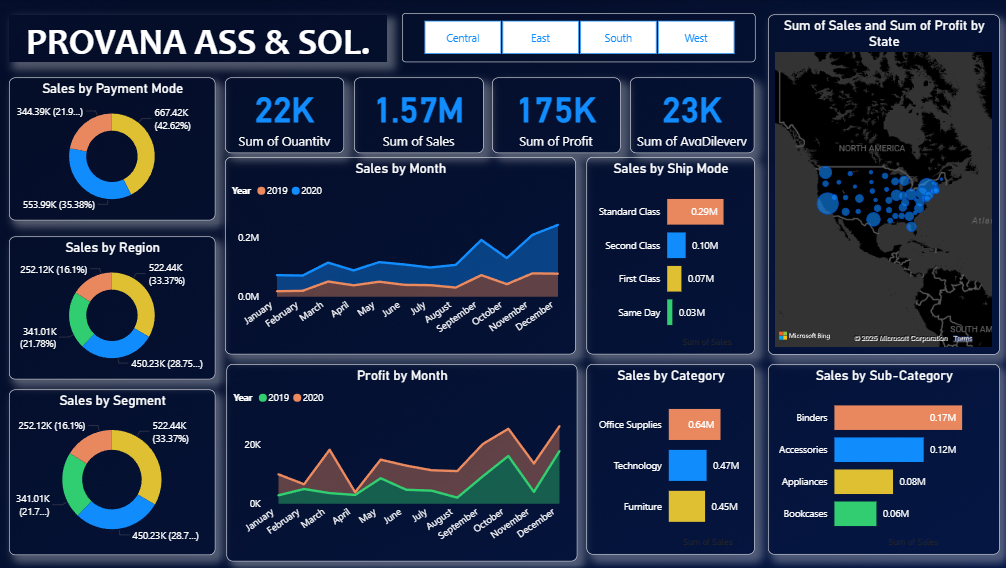

What the dashboard file says about the page in this screenshot:
{"tool":"powerbi","page":{"name":"Page 1","canvas":[1280,720],"ordinal":0},"visuals":[{"type":"clusteredBarChart","title":"Sales by Category","fields":{"Category":["Sheet1 (2).Category"],"Y":["Sum(Sheet1 (2).Sales)"]},"box":[746.7,461.7,211.7,240],"z":0},{"type":"clusteredBarChart","title":" Sales by Sub-Category","fields":{"Category":["Sheet1 (2).Sub-Category"],"Y":["Sum(Sheet1 (2).Sales)"]},"box":[975,461.7,291.7,240],"z":1000},{"type":"clusteredBarChart","title":"Sales by Ship Mode","fields":{"Category":["Sheet1 (2).Ship Mode"],"Y":["Sum(Sheet1 (2).Sales)"]},"box":[746.7,200,211.7,248.3],"z":2000},{"type":"donutChart","title":"Sales by  Region","fields":{"Y":["Sum(Sheet1 (2).Sales)"],"Category":["Sheet1 (2).Region"]},"box":[18.3,300,260,180],"z":3000},{"type":"donutChart","title":"Sales by Segment","fields":{"Y":["Sum(Sheet1 (2).Sales)"],"Category":["Sheet1 (2).Region"]},"box":[18.3,493.3,260,208.3],"z":4000},{"type":"shape","title":"PROVANA","box":[18.3,20,476.7,60],"z":5000},{"type":"stackedAreaChart","title":" Sales by Month ","fields":{"Category":["Sheet1 (2).Order Date.Variation.Date Hierarchy.Month","Sheet1 (2).Order Date.Variation.Date Hierarchy.Day"],"Y":["Sum(Sheet1 (2).Sales)"],"Series":["Sheet1 (2).Order Date.Variation.Date Hierarchy.Year"]},"box":[291.7,200,441.7,248.3],"z":6000},{"type":"stackedAreaChart","title":"Profit by Month ","fields":{"Category":["Sheet1 (2).Order Date.Variation.Date Hierarchy.Month","Sheet1 (2).Order Date.Variation.Date Hierarchy.Day"],"Y":["Sum(Sheet1 (2).Profit)"],"Series":["Sheet1 (2).Order Date.Variation.Date Hierarchy.Year"]},"box":[293.3,461.7,441.7,248.3],"z":7000},{"type":"card","fields":{"Values":["Sum(Sheet1 (2).Quantity)"]},"box":[291.7,100,150,95],"z":8000},{"type":"card","fields":{"Values":["Sum(Sheet1 (2).Sales)"]},"box":[453.3,100,163.3,95],"z":9000},{"type":"card","fields":{"Values":["Sum(Sheet1 (2).Profit)"]},"box":[628.3,100,161.7,95],"z":10000},{"type":"card","fields":{"Values":["Sum(Sheet1 (2).AvgDilevery)"]},"box":[801.7,100,156.7,95],"z":11000},{"type":"donutChart","title":"Sales by Payment Mode","fields":{"Y":["Sum(Sheet1 (2).Sales)"],"Category":["Sheet1 (2).Payment Mode"]},"box":[18.3,100,260,180],"z":12000},{"type":"map","fields":{"Category":["Sheet1 (2).State"],"Size":["Sum(Sheet1 (2).Sales)"]},"box":[975,20,291.7,428.3],"z":13000},{"type":"slicer","fields":{"Values":["Sheet1 (2).Region"]},"box":[513.3,18.3,445,61.7],"z":14000}]}

Visuals, with their boxes in screenshot pixels (x1, y1, x2, y2), scaled from the page's 1280x720 canvas onto the 1006x568 screenshot:
"Sales by Category" clusteredBarChart: (x1=587, y1=364, x2=753, y2=554)
" Sales by Sub-Category" clusteredBarChart: (x1=766, y1=364, x2=996, y2=554)
"Sales by Ship Mode" clusteredBarChart: (x1=587, y1=158, x2=753, y2=354)
"Sales by  Region" donutChart: (x1=14, y1=237, x2=219, y2=379)
"Sales by Segment" donutChart: (x1=14, y1=389, x2=219, y2=553)
"PROVANA" shape: (x1=14, y1=16, x2=389, y2=63)
" Sales by Month " stackedAreaChart: (x1=229, y1=158, x2=576, y2=354)
"Profit by Month " stackedAreaChart: (x1=231, y1=364, x2=578, y2=560)
card - Sum(Sheet1 (2).Quantity): (x1=229, y1=79, x2=347, y2=154)
card - Sum(Sheet1 (2).Sales): (x1=356, y1=79, x2=485, y2=154)
card - Sum(Sheet1 (2).Profit): (x1=494, y1=79, x2=621, y2=154)
card - Sum(Sheet1 (2).AvgDilevery): (x1=630, y1=79, x2=753, y2=154)
"Sales by Payment Mode" donutChart: (x1=14, y1=79, x2=219, y2=221)
map - Sheet1 (2).State x Sum(Sheet1 (2).Sales): (x1=766, y1=16, x2=996, y2=354)
slicer - Sheet1 (2).Region: (x1=403, y1=14, x2=753, y2=63)
